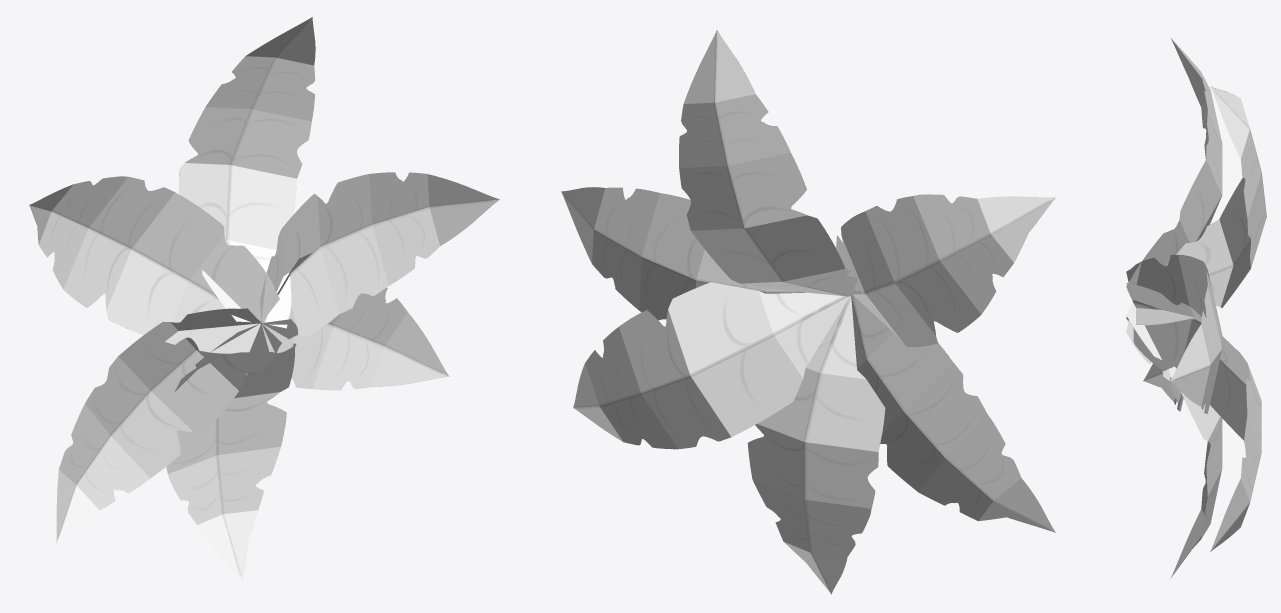
File: Fern.fbx
3 renders of one model, left to right at view 1: azimuth 30°, elevation 25°; view 2: azimuth 150°, elevation 25°; view 3: azimuth 270°, elevation 25°, orthographic. The views are drawn at different scales.
Visible parts, largest first — view 1: Fern; view 2: Fern; view 3: Fern.
Boxes of the visible parts, bbox=[...] form: Fern: bbox=[29, 17, 499, 582]; Fern: bbox=[561, 29, 1055, 594]; Fern: bbox=[1126, 38, 1266, 578].
Bounding box in the file's own units: 2446 × 9655 × 10109.
